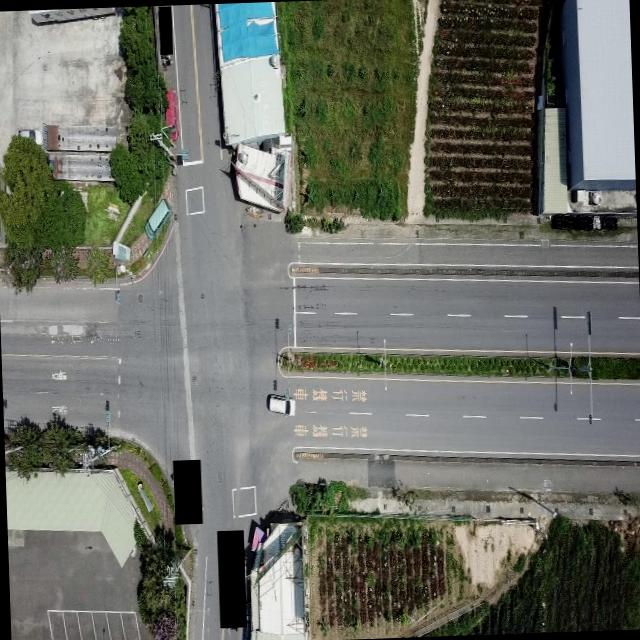car: (160, 83, 180, 144), (143, 197, 170, 240), (266, 388, 296, 418), (14, 125, 44, 152)
